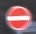No entry: (6, 5, 31, 29)
